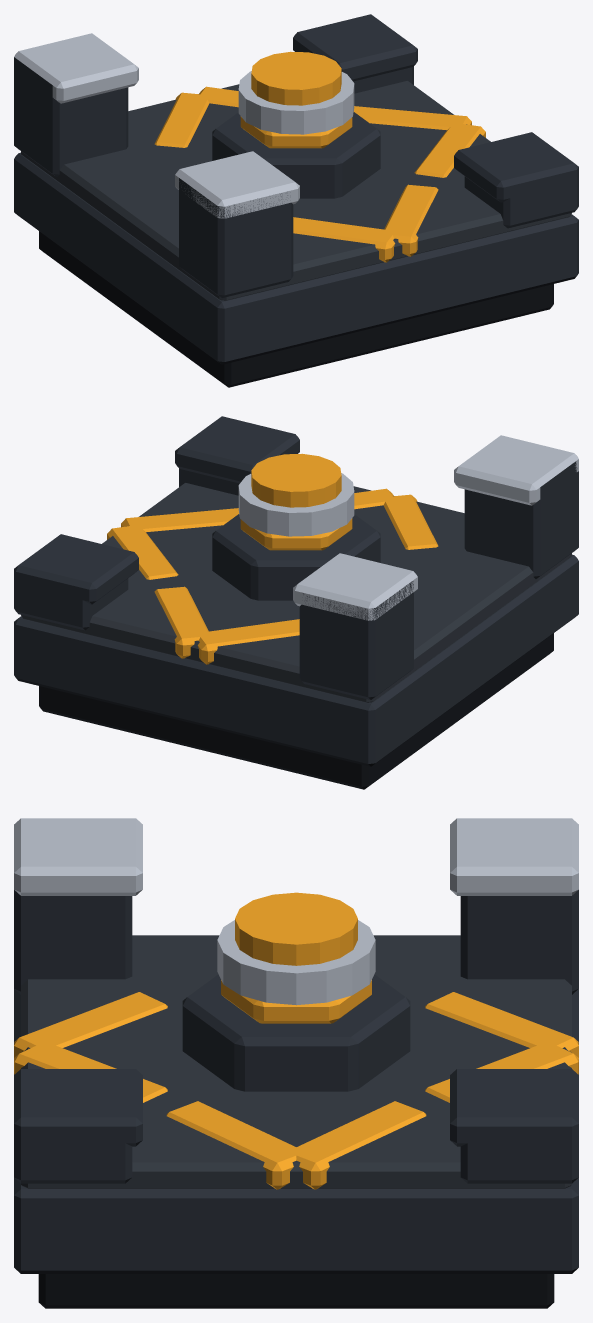
The model's file is belt-switch.glb.
3 renders of one model, top to bottom at view 1: azimuth 30°, elevation 25°; view 2: azimuth 150°, elevation 25°; view 3: azimuth 270°, elevation 25°, orthographic. The views are drawn at different scales.
Parts seen in each view (by area): view 1: belt-switch; view 2: belt-switch; view 3: belt-switch.
Boxes of the visible parts, x1,y1,x2,y2 form: belt-switch: (14,14,578,387); belt-switch: (14,416,578,789); belt-switch: (14,818,578,1308).
Size of the model in its own units: 0.9641 by 0.58 by 0.9642.
